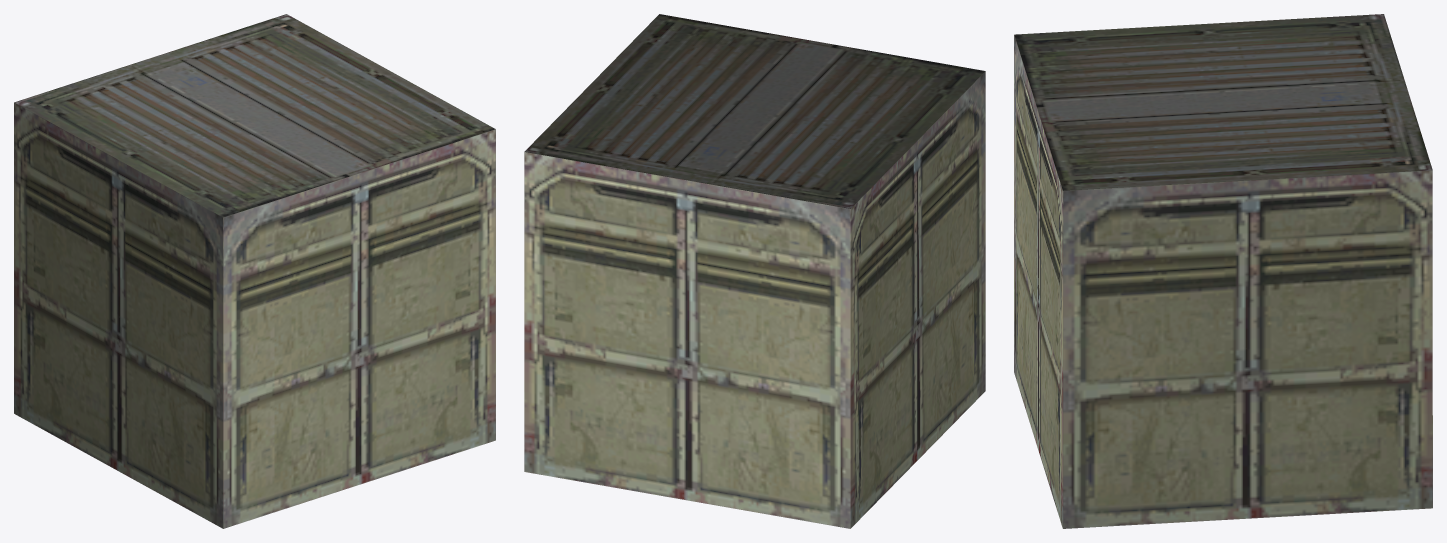
Rendered from metal_box.fbx.
The picture shows the model from 3 angles, left to right: view 1: azimuth 30°, elevation 25°; view 2: azimuth 150°, elevation 25°; view 3: azimuth 270°, elevation 25°; orthographic projection. The views are drawn at different scales.
Visible parts, largest first — view 1: metal_box.001; view 2: metal_box.001; view 3: metal_box.001.
Part boxes in pixels (left/top/right/bottom): metal_box.001: left=14, top=14, right=495, bottom=528; metal_box.001: left=524, top=14, right=985, bottom=528; metal_box.001: left=1014, top=14, right=1432, bottom=528.
Bounding box in the file's own units: 0.9155 × 0.8159 × 0.9158.
Materials: 2 (2 with a texture image).
